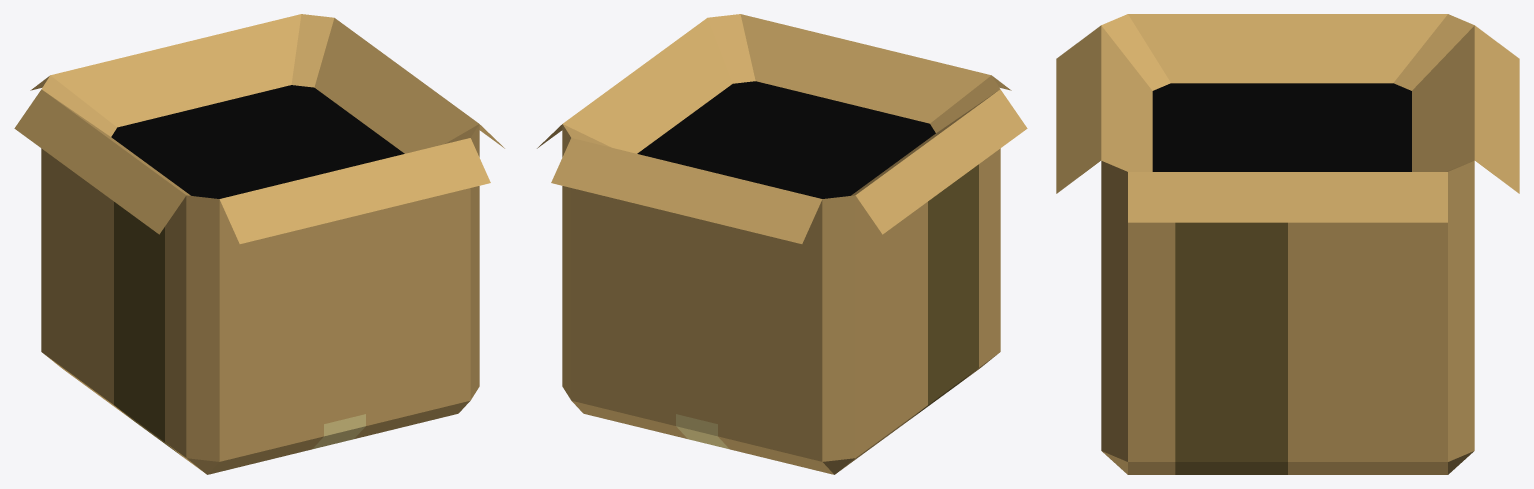
File: boxOpen.glb
3 renders of one model, left to right at view 1: azimuth 30°, elevation 25°; view 2: azimuth 150°, elevation 25°; view 3: azimuth 270°, elevation 25°, orthographic. The views are drawn at different scales.
Visible parts, largest first — view 1: Cube.002; view 2: Cube.002; view 3: Cube.002.
Part boxes in pixels (left/top/right/bottom): Cube.002: left=14, top=14, right=504, bottom=474; Cube.002: left=537, top=14, right=1027, bottom=474; Cube.002: left=1056, top=14, right=1519, bottom=474.
Size of the model in its own units: 2.37 by 1.86 by 2.48.
